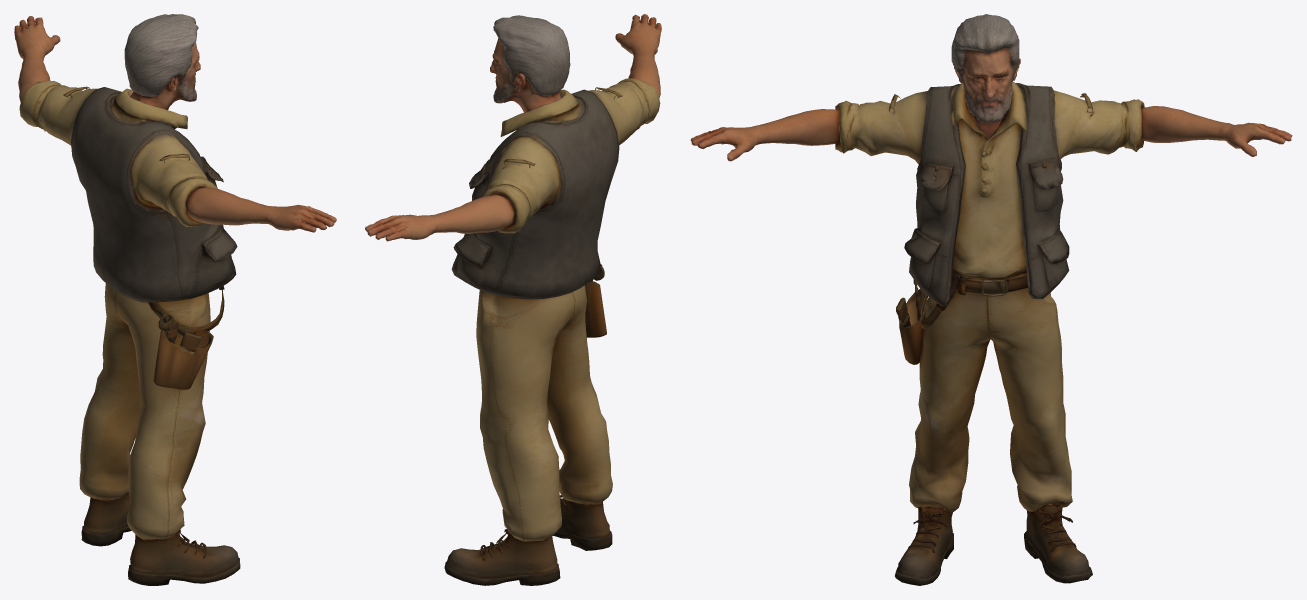
The model's file is CHR_Elias_Base.glb.
3 views of the same model, side by side, from view 1: azimuth 30°, elevation 25°; view 2: azimuth 150°, elevation 25°; view 3: azimuth 270°, elevation 25° (orthographic). The views are drawn at different scales.
Visible parts, largest first — view 1: tripo_node_3082aa50-b4e4-480a-a658-e9f1eb472cfb; view 2: tripo_node_3082aa50-b4e4-480a-a658-e9f1eb472cfb; view 3: tripo_node_3082aa50-b4e4-480a-a658-e9f1eb472cfb.
Part boxes in pixels (box(x1,y1,x2,y2)): tripo_node_3082aa50-b4e4-480a-a658-e9f1eb472cfb: box(14, 14, 336, 585); tripo_node_3082aa50-b4e4-480a-a658-e9f1eb472cfb: box(365, 14, 661, 585); tripo_node_3082aa50-b4e4-480a-a658-e9f1eb472cfb: box(690, 14, 1292, 585).
Size of the model in its own units: 0.2402 by 0.998 by 0.9902.
Materials: 1 (1 with a texture image).
